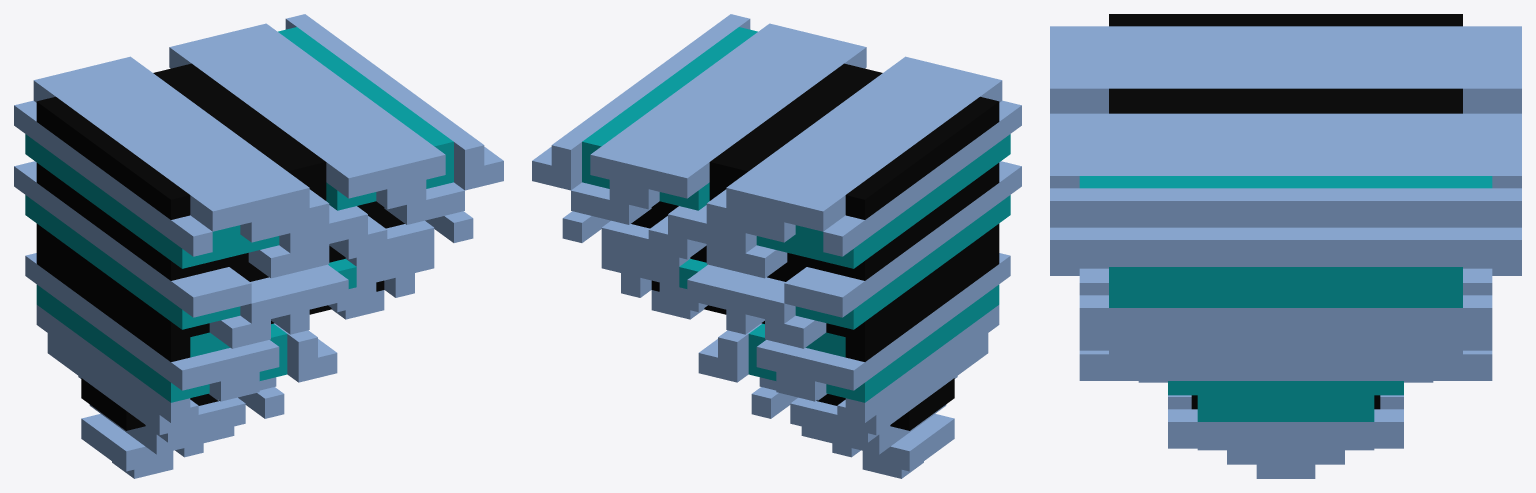
File: br-m-rockL-aqua.fbx
The picture shows the model from 3 angles, left to right: view 1: azimuth 30°, elevation 25°; view 2: azimuth 150°, elevation 25°; view 3: azimuth 270°, elevation 25°; orthographic projection. The views are drawn at different scales.
Parts seen in each view (by area): view 1: highlight, base, shadow; view 2: highlight, base, shadow; view 3: highlight, shadow, base.
Boxes of the visible parts, x1,y1,x2,y2 form: highlight: (14,14,503,478); base: (36,63,404,430); shadow: (25,27,453,402); highlight: (532,14,1021,478); base: (631,63,999,430); shadow: (582,27,1010,402); highlight: (1050,26,1521,478); shadow: (1079,176,1492,421); base: (1109,14,1462,409).
Size of the model in its own units: 1 by 1 by 1.
